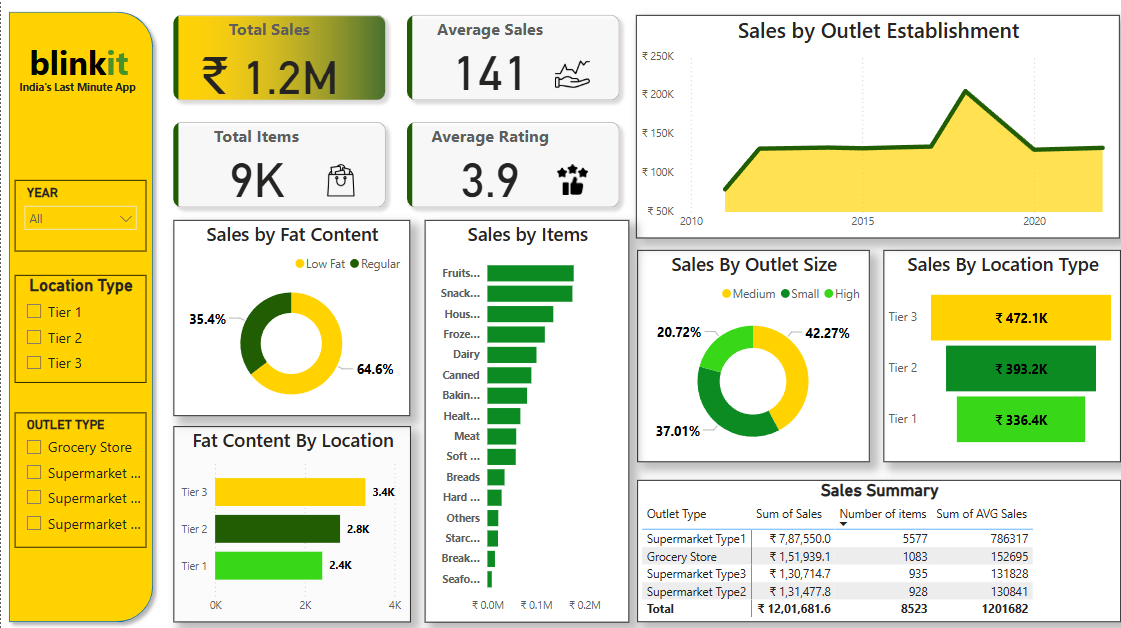

What the dashboard file says about the page in this screenshot:
{"tool":"powerbi","page":{"name":"Page 1","canvas":[1280,720],"ordinal":0},"visuals":[{"type":"shape","box":[0,4.3,182.9,715.7],"z":0},{"type":"textbox","box":[27.1,41.4,155.7,71.4],"z":1000},{"type":"textbox","box":[15.7,84.3,207.1,37.1],"z":2000},{"type":"cardVisual","fields":{"Data":["Sum(BlinkIT Grocery Data.Sales)","Max(BlinkIT Grocery Data.AVG Sales)","Max(BlinkIT Grocery Data.Number of items)","Max(BlinkIT Grocery Data.AVG Rating)"]},"box":[180,0,545.7,254.3],"z":3000},{"type":"image","box":[610.2,183.4,86.8,45.2],"z":4000},{"type":"image","box":[601.6,57.5,103.9,55],"z":5000},{"type":"image","box":[342.4,182.2,90.5,46.5],"z":6000},{"type":"donutChart","title":"Sales by  Fat Content","fields":{"Category":["BlinkIT Grocery Data.Item Fat Content"],"Y":["Sum(BlinkIT Grocery Data.Sales)"]},"box":[197.1,251.4,270,224.3],"z":7000},{"type":"barChart","title":"Sales by  Items","fields":{"Y":["Sum(BlinkIT Grocery Data.Sales)"],"Category":["BlinkIT Grocery Data.Item Type"]},"box":[484.2,251.9,233.6,459.8],"z":8000},{"type":"clusteredBarChart","title":"Fat Content By Location","fields":{"Y":["CountNonNull(BlinkIT Grocery Data.Item Fat Content)"],"Category":["BlinkIT Grocery Data.Outlet Location Type"]},"box":[197.1,487.1,271.4,224.3],"z":9000},{"type":"lineChart","title":"Sales by Outlet Establishment ","fields":{"Category":["BlinkIT Grocery Data.Outlet Establishment Year"],"Y":["Sum(BlinkIT Grocery Data.Sales)"]},"box":[726.4,17.1,552.7,255.6],"z":10000},{"type":"donutChart","title":" Sales By Outlet Size","fields":{"Y":["Sum(BlinkIT Grocery Data.Sales)"],"Category":["BlinkIT Grocery Data.Outlet Size"]},"box":[727.6,286.1,265.4,242.1],"z":11000},{"type":"funnel","title":"Sales By Location Type","fields":{"Y":["Sum(BlinkIT Grocery Data.Sales)"],"Category":["BlinkIT Grocery Data.Outlet Location Type"]},"box":[1008.8,286.1,271.5,242.1],"z":12000},{"type":"pivotTable","title":"Sales Summary","fields":{"Rows":["BlinkIT Grocery Data.Outlet Type"],"Values":["Sum(BlinkIT Grocery Data.Sales)","CountNonNull(BlinkIT Grocery Data.Number of items)","Sum(BlinkIT Grocery Data.AVG Sales)"]},"box":[727.6,549.1,552.7,162.6],"z":13000},{"type":"slicer","fields":{"Values":["BlinkIT Grocery Data.Outlet Establishment Year"]},"box":[15.7,205.7,150,81.4],"z":14000},{"type":"slicer","title":"Location Type","fields":{"Values":["BlinkIT Grocery Data.Outlet Location Type"]},"box":[15.7,314.3,150,122.9],"z":15000},{"type":"slicer","fields":{"Values":["BlinkIT Grocery Data.Outlet Type"]},"box":[15.7,471.4,150,154.3],"z":16000}]}

Visuals, with their boxes in screenshot pixels (x1, y1, x2, y2), scaled from the page's 1280x720 canvas onto the 1121x628 screenshot:
shape: (left=0, top=4, right=160, bottom=627)
textbox: (left=24, top=36, right=160, bottom=98)
textbox: (left=14, top=74, right=195, bottom=106)
cardVisual - Sum(BlinkIT Grocery Data.Sales) x Max(BlinkIT Grocery Data.AVG Sales): (left=158, top=0, right=636, bottom=222)
image: (left=534, top=160, right=610, bottom=199)
image: (left=527, top=50, right=618, bottom=98)
image: (left=300, top=159, right=379, bottom=199)
"Sales by  Fat Content" donutChart: (left=173, top=219, right=409, bottom=415)
"Sales by  Items" barChart: (left=424, top=220, right=629, bottom=621)
"Fat Content By Location" clusteredBarChart: (left=173, top=425, right=410, bottom=620)
"Sales by Outlet Establishment " lineChart: (left=636, top=15, right=1120, bottom=238)
" Sales By Outlet Size" donutChart: (left=637, top=250, right=870, bottom=461)
"Sales By Location Type" funnel: (left=883, top=250, right=1120, bottom=461)
"Sales Summary" pivotTable: (left=637, top=479, right=1120, bottom=621)
slicer - BlinkIT Grocery Data.Outlet Establishment Year: (left=14, top=179, right=145, bottom=250)
"Location Type" slicer: (left=14, top=274, right=145, bottom=381)
slicer - BlinkIT Grocery Data.Outlet Type: (left=14, top=411, right=145, bottom=546)
